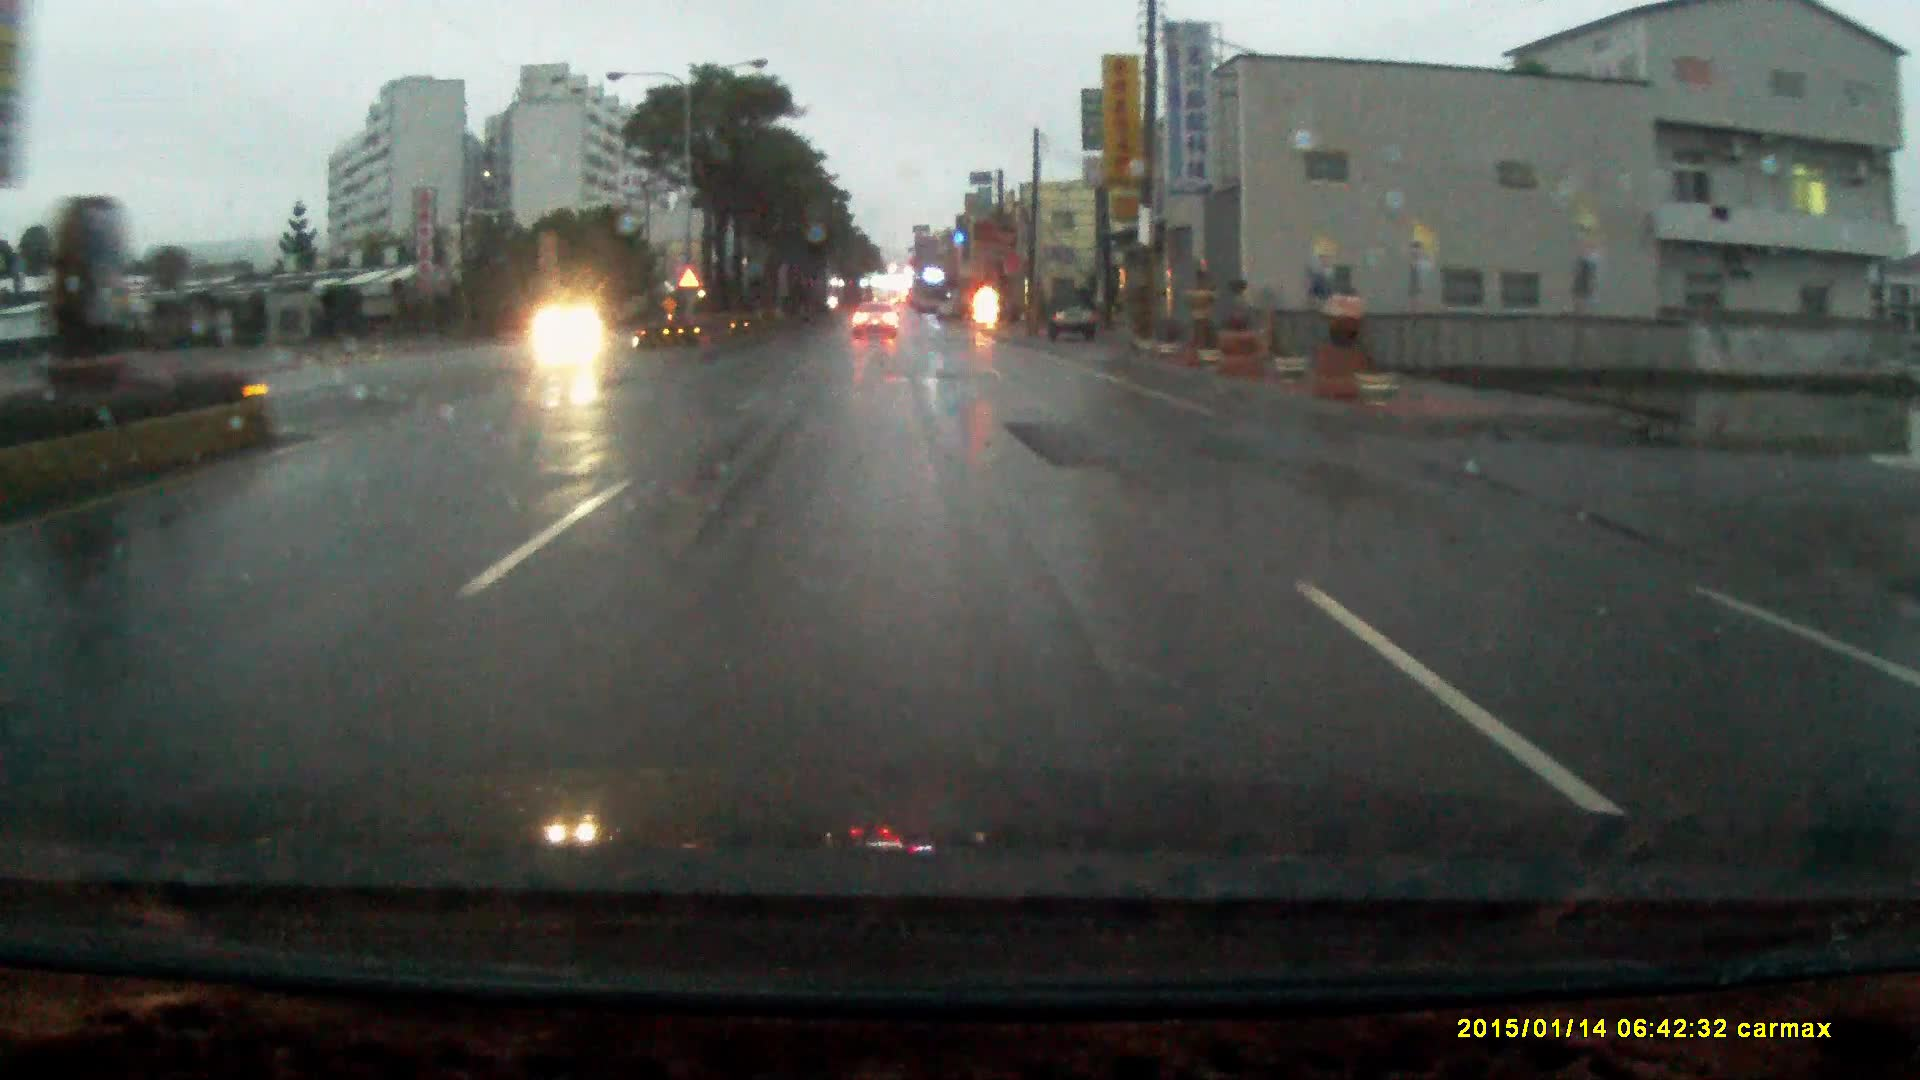vehicle: (1051, 287, 1105, 342), (851, 303, 901, 338)
